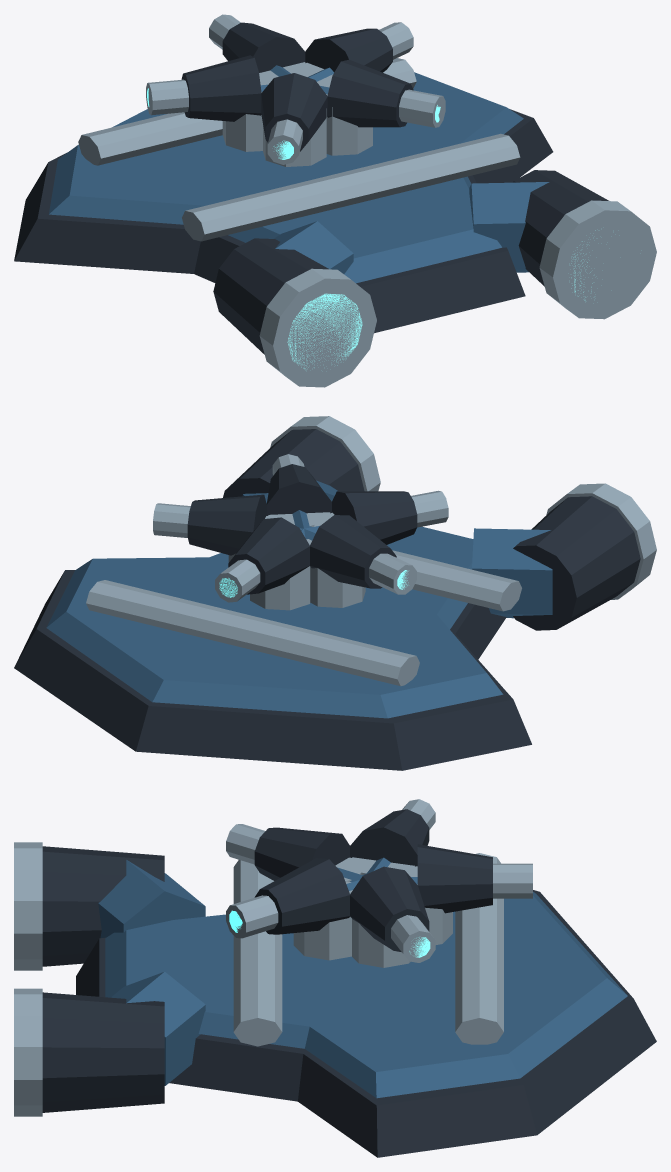
Rendered from c4_asteroid.glb.
The picture shows the model from 3 angles, top to bottom: view 1: azimuth 30°, elevation 25°; view 2: azimuth 150°, elevation 25°; view 3: azimuth 270°, elevation 25°; orthographic projection. The views are drawn at different scales.
Visible parts, largest first — view 1: asteroid / Armor, asteroid / Chassis, radial_emitter / Chassis, asteroid / Titanium, fragment_right / Titanium, fragment_left / Titanium, radial_emitter / Titanium, fragment_left / Chassis, fragment_right / Chassis, fragment_right / Armor, fragment_left / Energy, fragment_left / Armor; view 2: asteroid / Armor, asteroid / Chassis, radial_emitter / Chassis, asteroid / Titanium, fragment_left / Chassis, radial_emitter / Titanium, fragment_right / Chassis, fragment_left / Armor, fragment_left / Titanium, fragment_right / Titanium; view 3: asteroid / Armor, asteroid / Chassis, radial_emitter / Chassis, fragment_right / Chassis, asteroid / Titanium, radial_emitter / Titanium, fragment_left / Chassis, fragment_left / Armor, fragment_right / Armor, fragment_left / Titanium, fragment_right / Titanium.
Part boxes in pixels (x1,y1,x2,y2): asteroid / Armor: (49,72,523,283); asteroid / Chassis: (14,109,553,333); radial_emitter / Chassis: (181,22,413,151); asteroid / Titanium: (78,58,520,241); fragment_right / Titanium: (539,200,656,319); fragment_left / Titanium: (259,268,376,387); radial_emitter / Titanium: (146,14,445,166); fragment_left / Chassis: (213,238,328,354); fragment_right / Chassis: (513,170,608,286); fragment_right / Armor: (469,182,549,272); fragment_left / Energy: (287,293,362,368); fragment_left / Armor: (274,221,353,273); asteroid / Armor: (46,526,503,718); asteroid / Chassis: (14,570,531,770); radial_emitter / Chassis: (187,464,417,594); asteroid / Titanium: (86,550,521,686); fragment_left / Chassis: (513,496,640,630); radial_emitter / Titanium: (153,454,448,610); fragment_right / Chassis: (223,429,364,497); fragment_left / Armor: (472,528,552,618); fragment_left / Titanium: (546,483,656,599); fragment_right / Titanium: (270,416,380,491); asteroid / Armor: (105,892,627,1098); asteroid / Chassis: (76,890,656,1157); radial_emitter / Chassis: (254,809,492,951); fragment_right / Chassis: (42,992,164,1112); asteroid / Titanium: (233,853,503,1046); radial_emitter / Titanium: (226,799,532,967); fragment_left / Chassis: (42,846,164,966); fragment_left / Armor: (98,860,205,938); fragment_right / Armor: (111,971,205,1085); fragment_left / Titanium: (14,842,42,970); fragment_right / Titanium: (14,988,42,1116).
Size of the model in its own units: 1.44 by 0.475 by 1.45.
